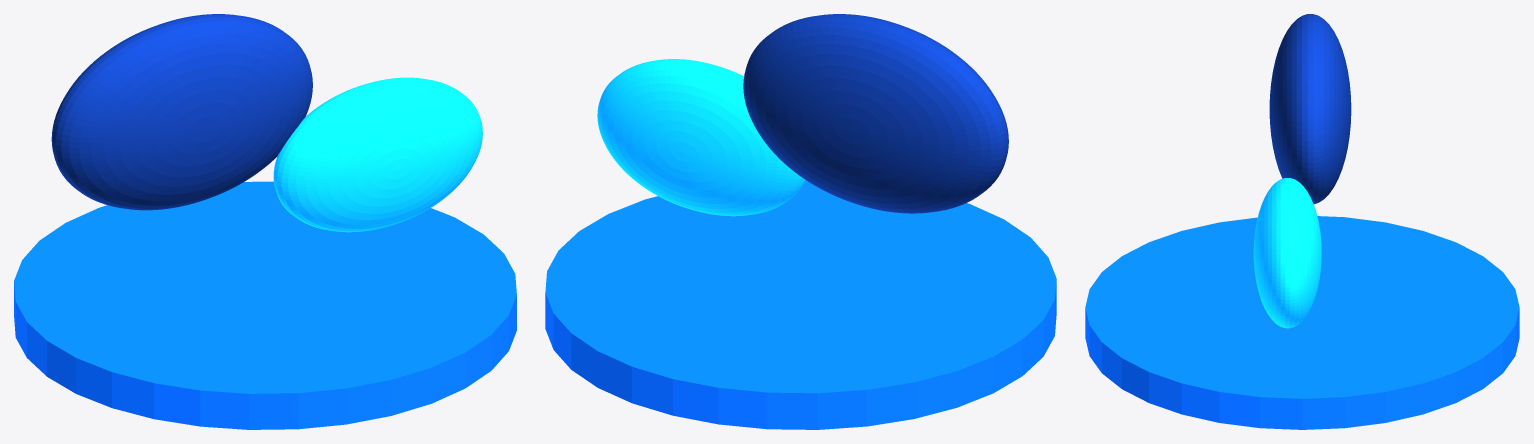
The model's file is news_chat_bubbles.dae.
The picture shows the model from 3 angles, left to right: view 1: azimuth 30°, elevation 25°; view 2: azimuth 150°, elevation 25°; view 3: azimuth 270°, elevation 25°; orthographic projection. The views are drawn at different scales.
Visible parts, largest first — view 1: 09_12_Popular_News_Chat_Bubbles_ROOT_base, 09_12_Popular_News_Chat_Bubbles_part_01, 09_12_Popular_News_Chat_Bubbles_part_02; view 2: 09_12_Popular_News_Chat_Bubbles_ROOT_base, 09_12_Popular_News_Chat_Bubbles_part_01, 09_12_Popular_News_Chat_Bubbles_part_02; view 3: 09_12_Popular_News_Chat_Bubbles_ROOT_base, 09_12_Popular_News_Chat_Bubbles_part_01, 09_12_Popular_News_Chat_Bubbles_part_02.
Part boxes in pixels (left/top/right/bottom): 09_12_Popular_News_Chat_Bubbles_ROOT_base: left=14, top=181, right=516, bottom=429; 09_12_Popular_News_Chat_Bubbles_part_01: left=51, top=14, right=312, bottom=210; 09_12_Popular_News_Chat_Bubbles_part_02: left=273, top=77, right=482, bottom=232; 09_12_Popular_News_Chat_Bubbles_ROOT_base: left=545, top=180, right=1056, bottom=429; 09_12_Popular_News_Chat_Bubbles_part_01: left=743, top=14, right=1008, bottom=213; 09_12_Popular_News_Chat_Bubbles_part_02: left=597, top=59, right=805, bottom=216; 09_12_Popular_News_Chat_Bubbles_ROOT_base: left=1085, top=216, right=1519, bottom=429; 09_12_Popular_News_Chat_Bubbles_part_01: left=1269, top=14, right=1351, bottom=204; 09_12_Popular_News_Chat_Bubbles_part_02: left=1253, top=178, right=1321, bottom=328.
Size of the model in its own units: 0.76 by 0.5301 by 0.76.
